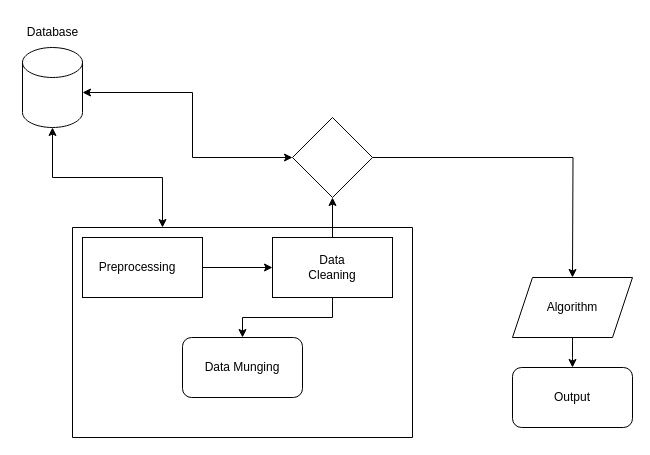
Image size: 650x455. Some labels were removed from this diagram. Here are the shapes that lost their labels. From the top down, the centre of each, then its label:
point (52, 87): MySQL
point (332, 157): Upload to SQL
